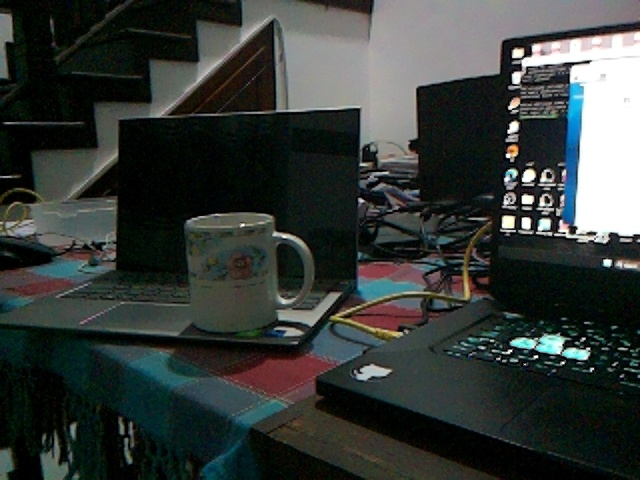mug: (182, 209, 315, 333)
